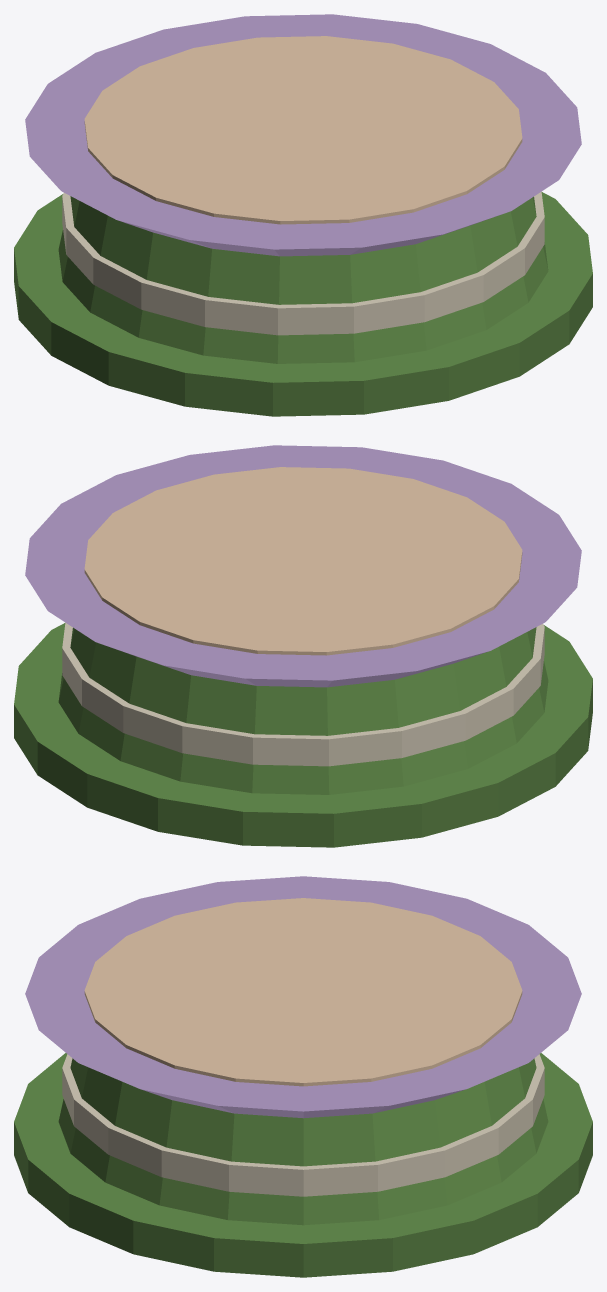
File: goo_cork_stand@garden.fbx
The picture shows the model from 3 angles, top to bottom: view 1: azimuth 30°, elevation 25°; view 2: azimuth 150°, elevation 25°; view 3: azimuth 270°, elevation 25°; orthographic projection.
Visible parts, largest first — view 1: goo_cork_stand; view 2: goo_cork_stand; view 3: goo_cork_stand.
Boxes of the visible parts, x1,y1,x2,y2 form: goo_cork_stand: [14, 14, 592, 416]; goo_cork_stand: [14, 445, 592, 847]; goo_cork_stand: [14, 876, 592, 1277].
Bounding box in the file's own units: 7.8 × 2.45 × 7.8.
